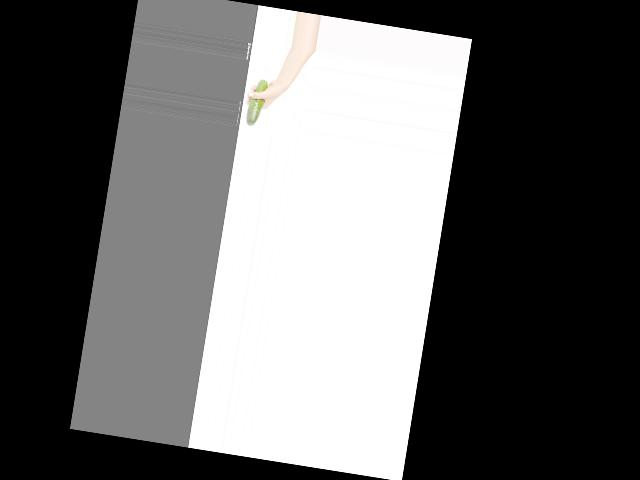cucumber: (244, 78, 268, 128)
